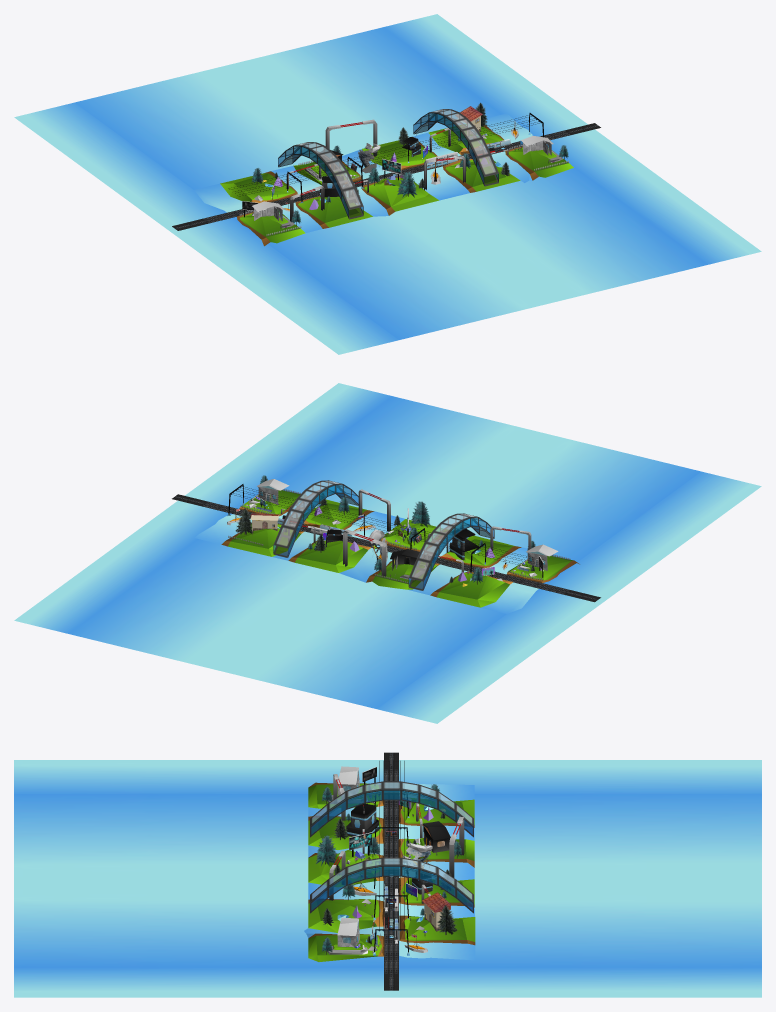
Rendered from subwaysurferstest73.glb.
3 renders of one model, top to bottom at view 1: azimuth 30°, elevation 25°; view 2: azimuth 150°, elevation 25°; view 3: azimuth 270°, elevation 25°, orthographic. The views are drawn at different scales.
Visible parts, largest first — view 1: Water, Ground, bridge.001, bridge; view 2: Water, Ground, bridge.001, bridge; view 3: Water, Ground, bridge, bridge.001, building.002, House.001, pvzhouse, House, House.002, connector.005, tree1.002.
Part boxes in pixels (<box>): Water: <box>14,14,761,354</box>; Ground: <box>194,113,573,246</box>; bridge.001: <box>278,142,363,219</box>; bridge: <box>413,109,498,186</box>; Water: <box>14,383,761,723</box>; Ground: <box>195,490,579,613</box>; bridge.001: <box>408,513,494,590</box>; bridge: <box>273,480,358,557</box>; Water: <box>14,760,761,997</box>; Ground: <box>304,782,475,961</box>; bridge: <box>310,857,473,913</box>; bridge.001: <box>310,781,473,837</box>; building.002: <box>346,803,378,836</box>; House.001: <box>423,821,450,852</box>; pvzhouse: <box>422,892,450,931</box>; House: <box>337,917,359,947</box>; House.002: <box>337,766,359,795</box>; connector.005: <box>449,816,464,880</box>; tree1.002: <box>315,835,336,866</box>.
Size of the model in its own units: 562 by 71.22 by 744.
4 materials, 4 textured.
